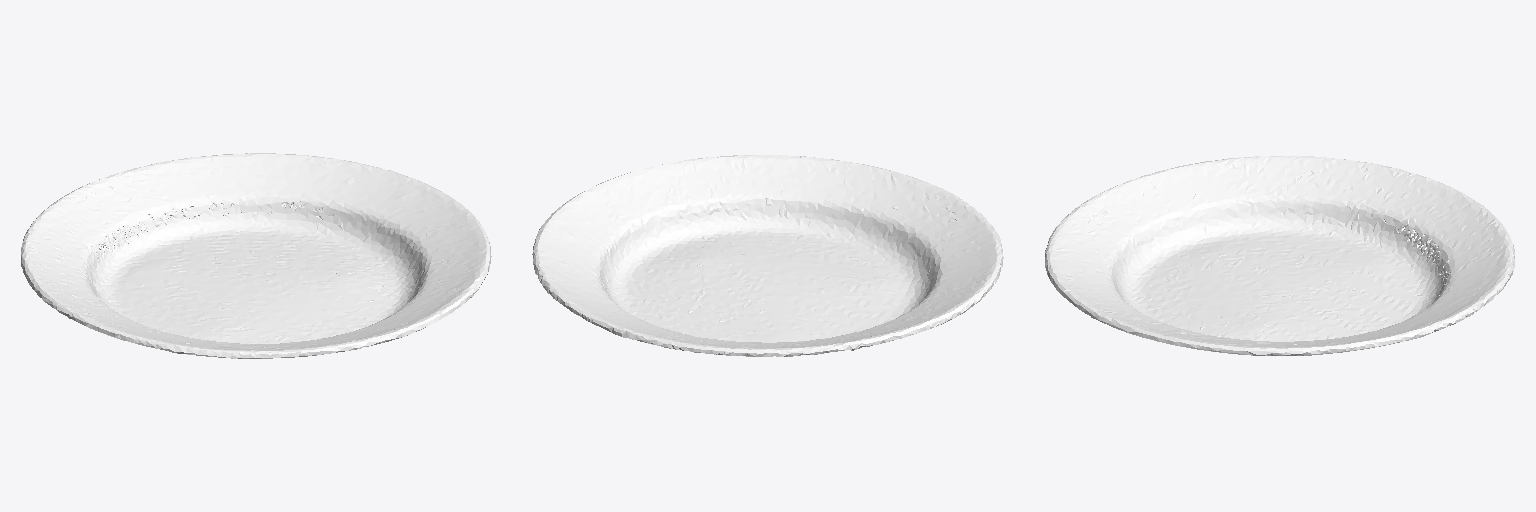
robot.urdf — 029_plate:
<?xml version="1.0" ?>
<robot name="029_plate">
    <link name="baseLink">
        <contact>
        <friction_anchor/>
        <lateral_friction value="1.5"/>
        <rolling_friction value="0.1"/>
        <spinning_friction value="0.1"/>
        <contact_cfm value="1e-5"/>
        <contact_erp value="0.8"/>
        </contact>
        <visual>
            <origin rpy="0 0 0" xyz="0 0 0"/>
            <geometry>
                <mesh filename="assets/objects/029_plate/meshes/029_plate_textured.obj" scale="1 1 1"/>
            </geometry>
            <material name="white">
                <color rgba="1 1 1 1"/>
            </material>
        </visual>
        <collision>
            <origin rpy="0 0 0" xyz="0 0 0"/>
            <geometry>
                <mesh filename="assets/objects/029_plate/meshes/029_plate_textured.obj" scale="1 1 1"/>
            </geometry>
        </collision>
        <inertial>
            <origin rpy="0 0 0" xyz="0 0 0"/>
            <mass value="1.0"/>
            <inertia ixx="0.1" ixy="0" ixz="0" iyy="0.1" iyz="0" izz="0.1"/>
        </inertial>
    </link>
</robot>

--- Render facts (derived) ---
3 views of the same robot in one strip: view 1: azimuth 30°, elevation 25°; view 2: azimuth 150°, elevation 25°; view 3: azimuth 270°, elevation 25° (orthographic).
Robot: 029_plate — 1 links, 0 joints (none); root link baseLink; default pose: every joint at zero.
Visible links, largest first — view 1: baseLink; view 2: baseLink; view 3: baseLink.
Link boxes in pixels (x1,y1,x2,y2): baseLink: (21,153,491,358); baseLink: (532,155,1003,356); baseLink: (1045,156,1514,355).
Bounding box of the posed robot: 0.2602 × 0.2611 × 0.0267 m (x, y, z).
Meshes: 1 distinct files referenced, 1 mesh visuals loaded (1 OBJ).
